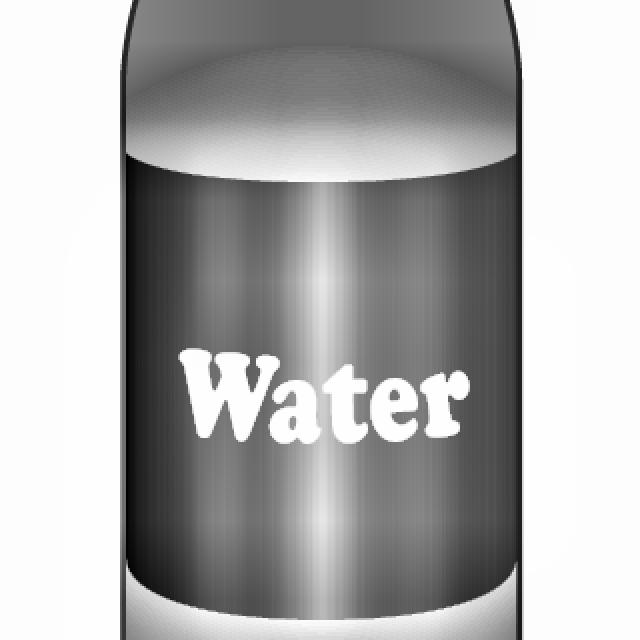bottle: (116, 0, 526, 640)
